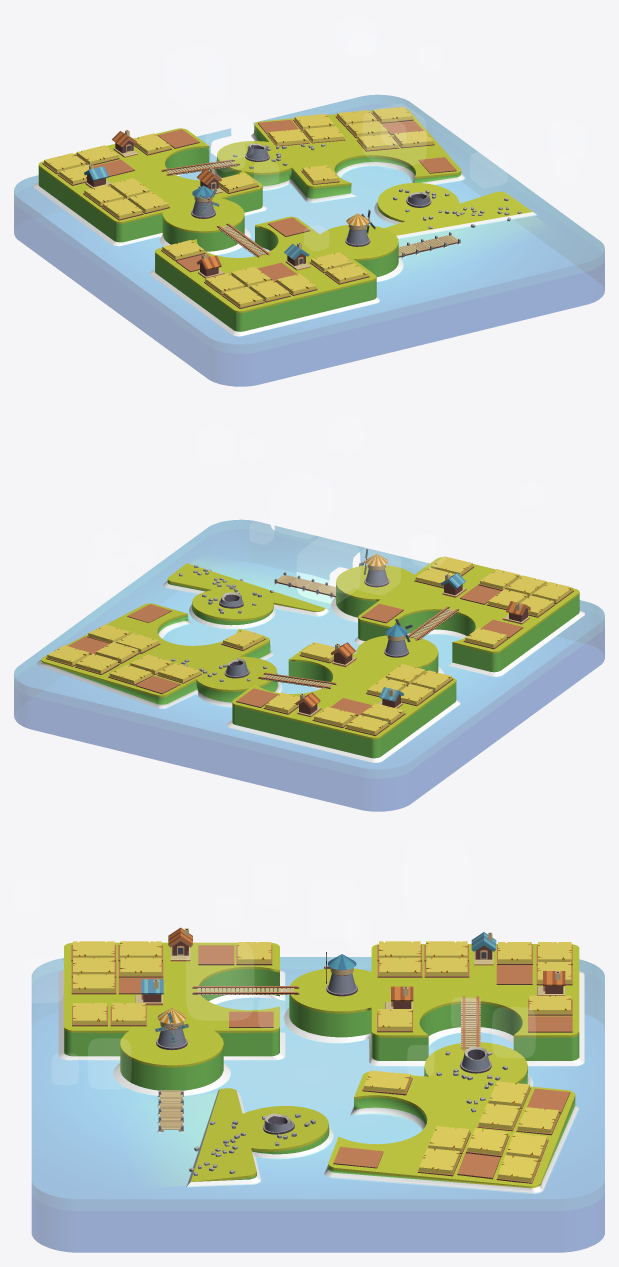
The model's file is the_puzzle_islands.glb.
3 views of the same model, one above another, from view 1: azimuth 30°, elevation 25°; view 2: azimuth 150°, elevation 25°; view 3: azimuth 270°, elevation 25° (orthographic). The views are drawn at different scales.
Parts seen in each view (by area): view 1: pCube1, polySurface2, polySurface7, polySurface8, polySurface9, polySurface30, polySurface31, pCube166, polySurface32, pCube161, pCylinder1, pCylinder12 (+18 smaller); view 2: pCube1, polySurface7, polySurface2, polySurface8, polySurface9, polySurface30, polySurface31, polySurface32, pCube166, pCube161, pCylinder1, pCylinder12 (+5 smaller); view 3: pCube1, polySurface2, polySurface7, polySurface8, polySurface9, polySurface31, polySurface30, pCube166, polySurface32, pCube161, pCylinder12, pCube151 (+31 smaller).
Boxes of the visible parts, x1,y1,x2,y2 form: pCube1: [14, 94, 604, 386]; polySurface2: [149, 216, 403, 336]; polySurface7: [33, 128, 266, 255]; polySurface8: [214, 108, 465, 202]; polySurface9: [374, 183, 537, 238]; polySurface30: [258, 114, 345, 146]; polySurface31: [335, 106, 423, 138]; pCube166: [399, 216, 540, 246]; polySurface32: [356, 130, 434, 151]; pCube161: [398, 232, 460, 258]; pCylinder1: [345, 213, 370, 246]; pCylinder12: [191, 185, 215, 218]; pCube1: [14, 519, 604, 811]; polySurface7: [226, 635, 460, 762]; polySurface2: [331, 557, 585, 676]; polySurface8: [37, 603, 282, 709]; polySurface9: [163, 563, 328, 629]; polySurface30: [108, 654, 201, 693]; polySurface31: [46, 636, 139, 674]; polySurface32: [87, 624, 160, 653]; pCube166: [190, 561, 330, 608]; pCube161: [274, 572, 335, 598]; pCylinder1: [364, 554, 389, 587]; pCylinder12: [384, 624, 408, 657]; pCube1: [31, 957, 604, 1252]; polySurface2: [58, 942, 285, 1095]; polySurface7: [283, 944, 584, 1066]; polySurface8: [324, 1042, 578, 1193]; polySurface9: [186, 1088, 333, 1187]; polySurface31: [457, 1128, 548, 1183]; polySurface30: [477, 1081, 570, 1135]; pCube166: [164, 1093, 216, 1186]; polySurface32: [417, 1126, 470, 1176]; pCube161: [157, 1090, 184, 1132]; pCylinder12: [326, 954, 357, 996]; pCube151: [461, 996, 480, 1050].
Size of the model in its own units: 0.11 by 0.0512 by 0.1134.
6 materials, 5 textured.
